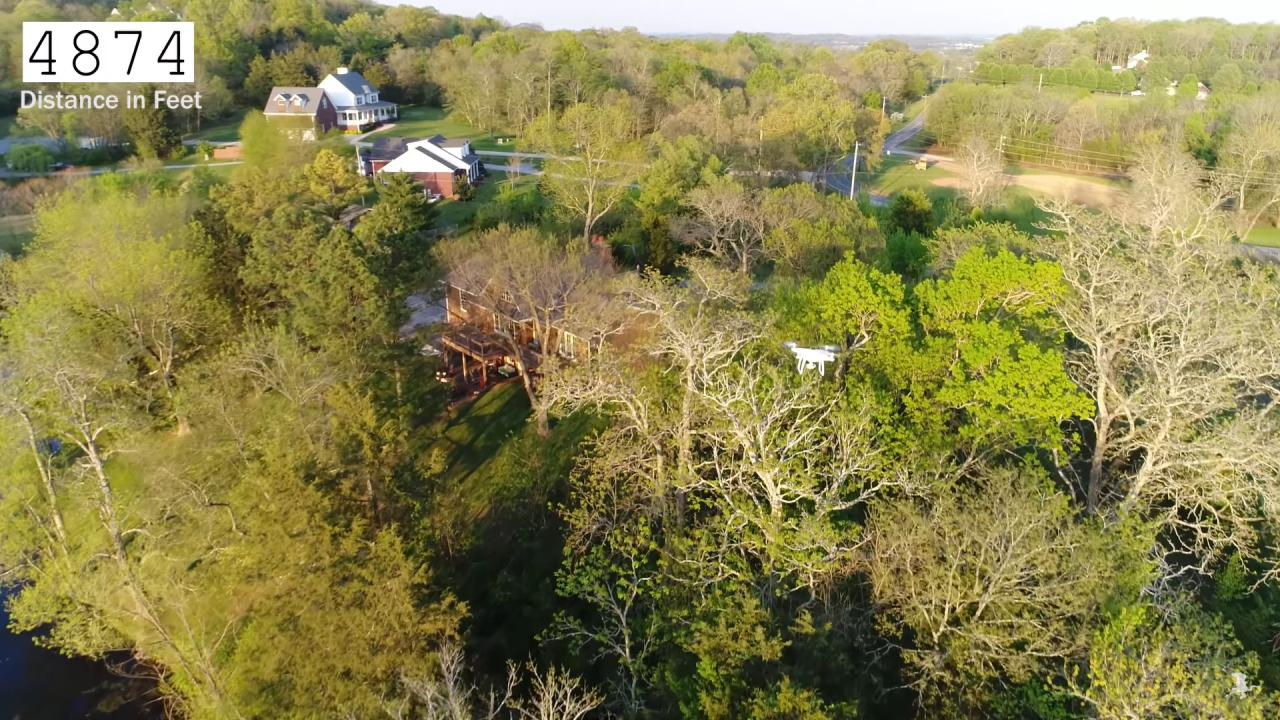Drone: (775, 334, 856, 384)
